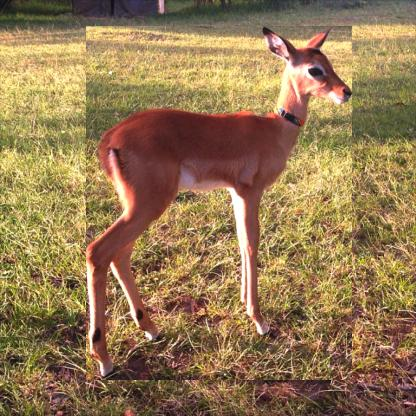Deer: (86, 26, 352, 380)
